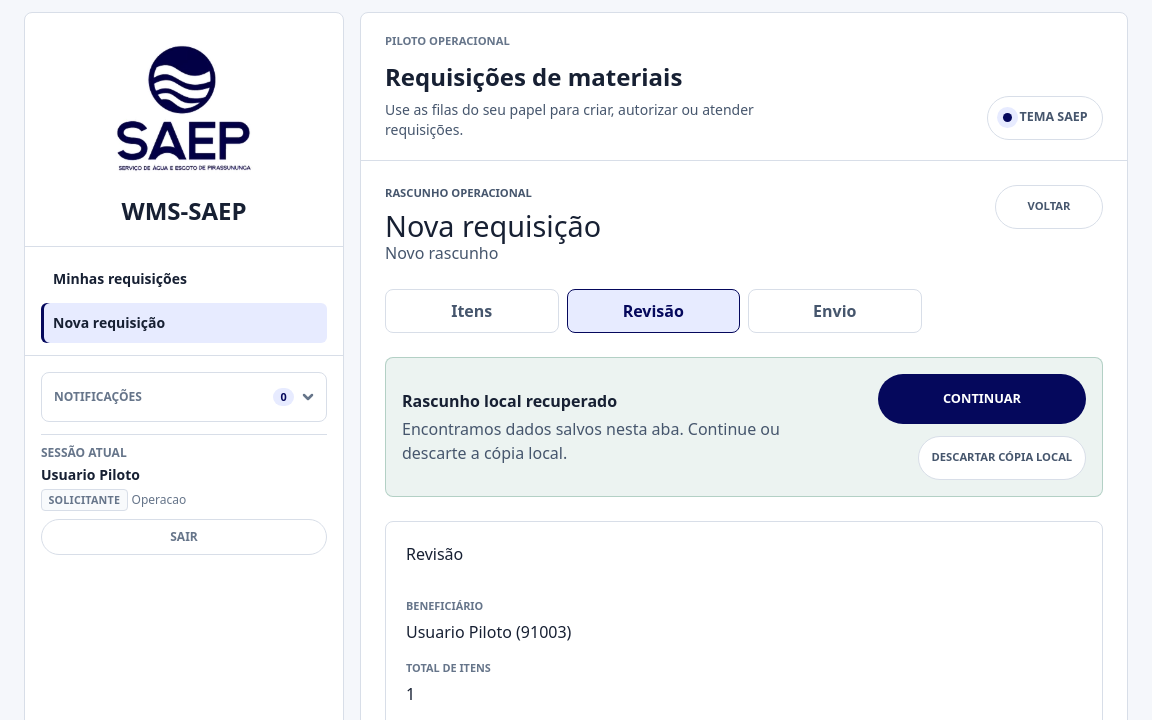
Test: frontend pilot router › recovers a local draft snapshot and can discard that copy
Check: the text "Rascunho local recuperado" is shown, box [402,390,617,412]
Click the button "Descartar cópia local" at (1002,458), box [918,436,1086,480]
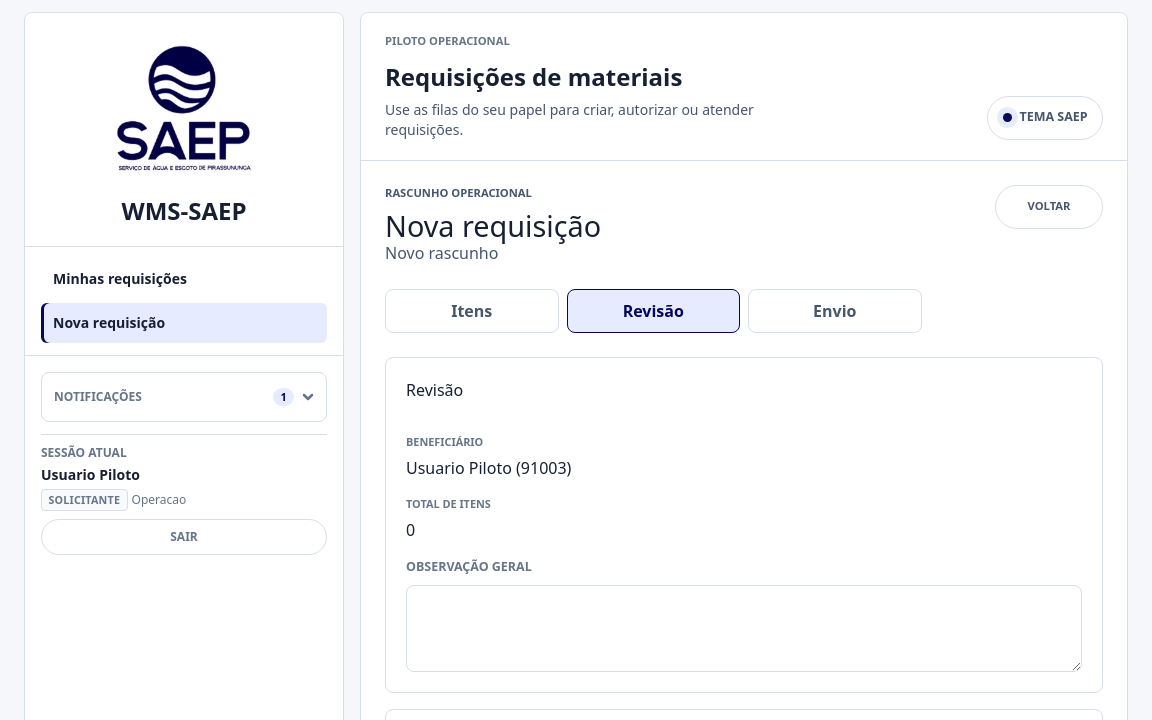
Check: the text "Rascunho local recuperado" is gone
